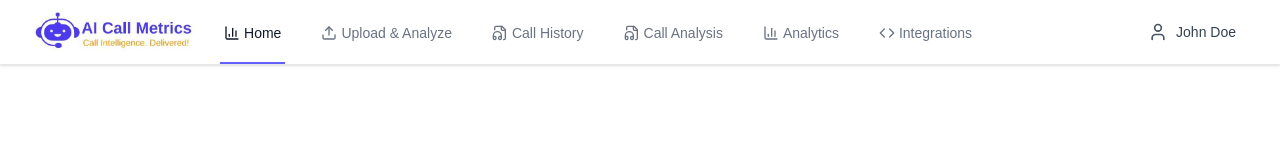
it: Navigation Component › Authenticated Navigation › should show user dropdown menu when clicked
Click the button "John Doe". click: point(1192, 32)
box: x1=1136 y1=14 x2=1248 y2=50
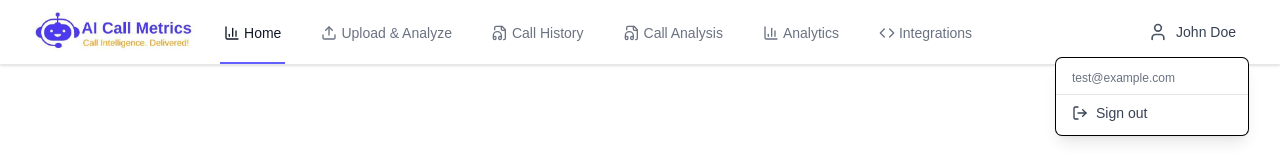
Check: the text "test@example.com" is shown, box x1=1056 y1=62 x2=1248 y2=95
Check: the button "Sign out" is shown, box x1=1056 y1=95 x2=1248 y2=131
